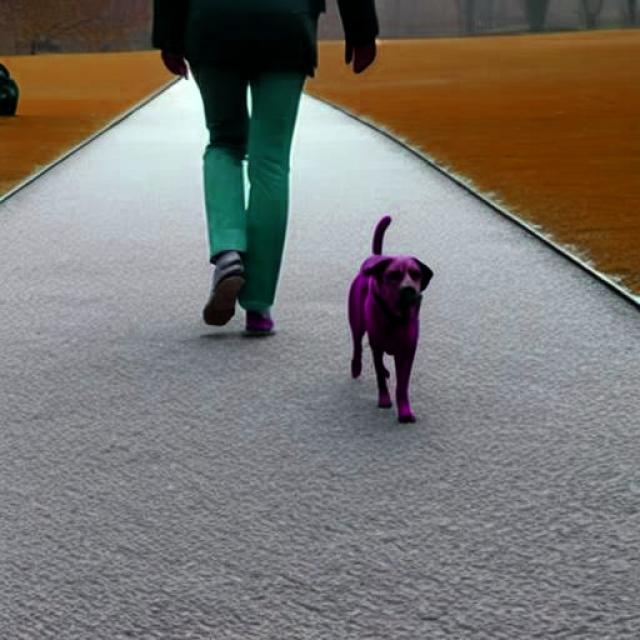Unleashed_Dog: (203, 86, 434, 424)
